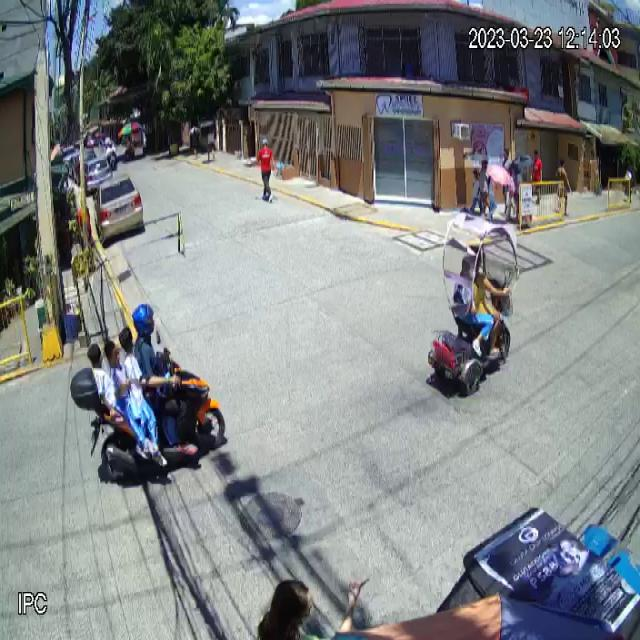Car: (93, 172, 143, 242)
Motorcycle: (70, 363, 225, 481)
